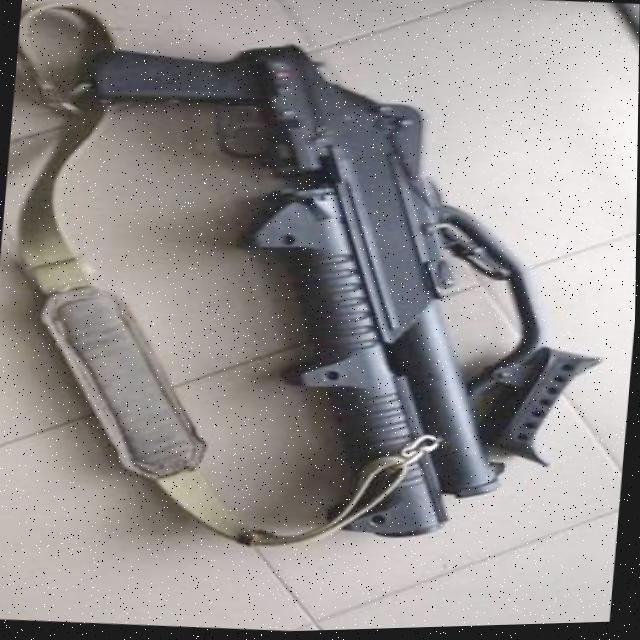firearm: (55, 28, 538, 555)
